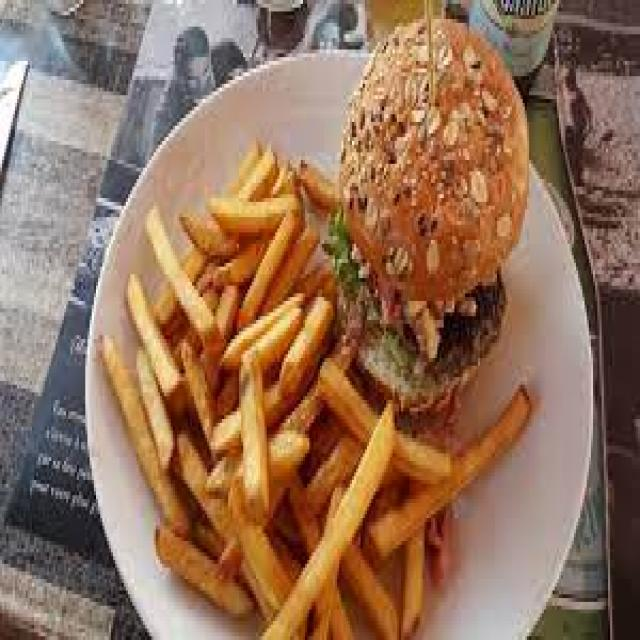Burger: (342, 41, 524, 381)
Fries: (132, 208, 330, 639)
